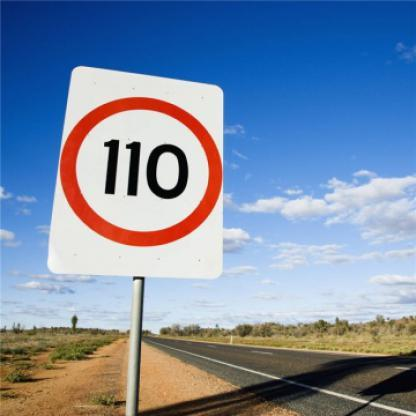Speed Limit 110: (64, 96, 222, 246)
